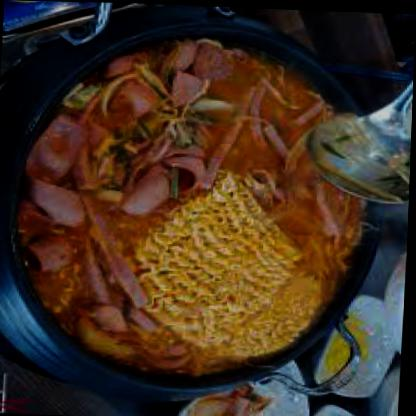budaejjigae: (8, 29, 383, 386)
